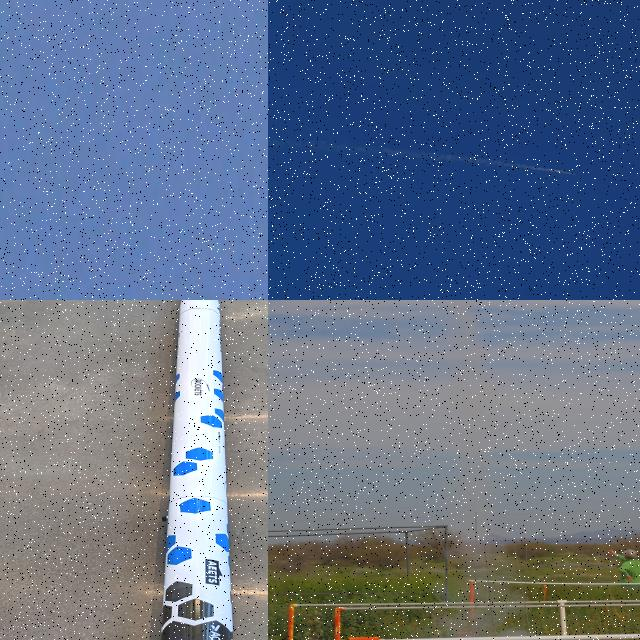Rocket: (161, 300, 234, 640), (558, 169, 576, 175)
